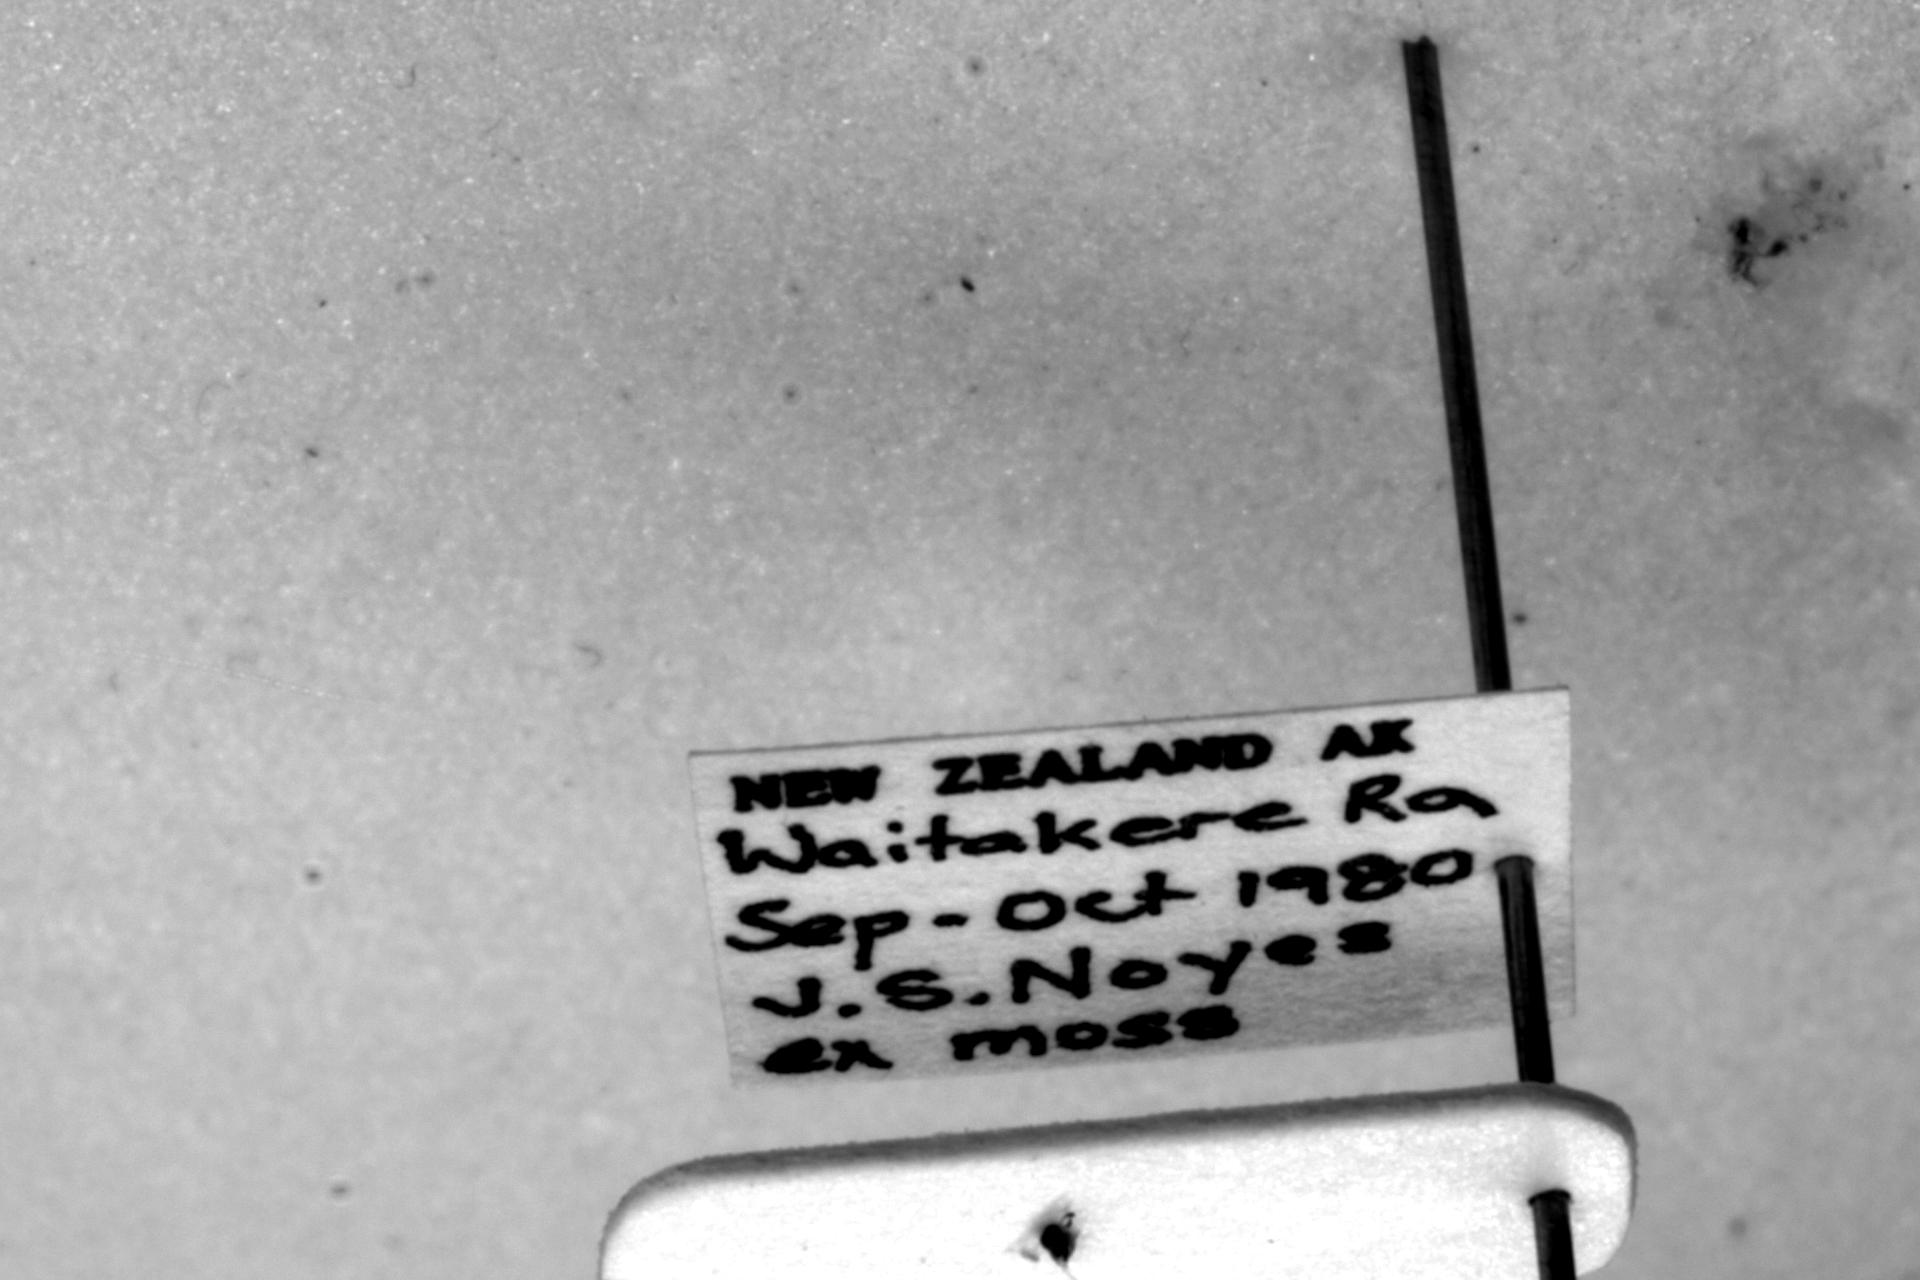mixed_label: (690, 690, 1575, 1084)
